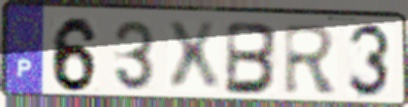3: (343, 22, 398, 102), (111, 18, 157, 93)
6: (48, 14, 102, 95)
B: (223, 19, 282, 97)
R: (282, 22, 341, 97)
X: (162, 20, 223, 95)
